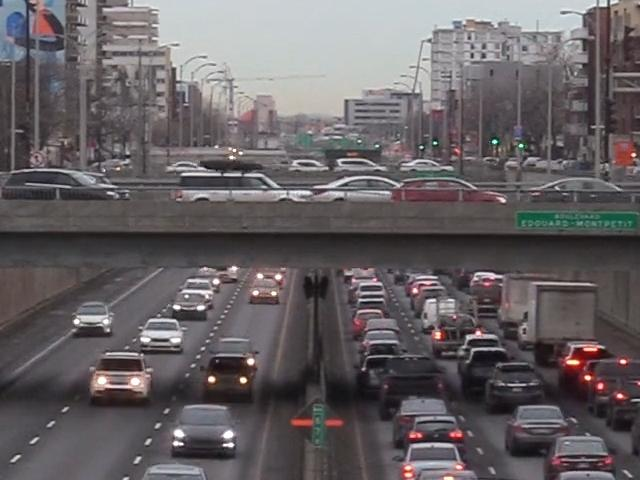car: (373, 355, 449, 420), (169, 169, 301, 204), (0, 166, 124, 202), (171, 405, 239, 460), (505, 407, 576, 456), (90, 355, 155, 405), (459, 344, 519, 398), (483, 362, 547, 412), (401, 412, 470, 458), (398, 177, 508, 205), (396, 439, 470, 480), (525, 178, 634, 204), (592, 366, 640, 423), (549, 434, 618, 472), (202, 357, 258, 398), (311, 172, 398, 198), (356, 351, 402, 400), (458, 329, 508, 365), (138, 318, 187, 354), (70, 301, 116, 336), (357, 317, 403, 352), (427, 322, 468, 359), (171, 285, 216, 318), (352, 285, 389, 320), (420, 296, 458, 330), (468, 270, 506, 303), (401, 164, 462, 183), (406, 273, 442, 301), (182, 275, 220, 300), (331, 156, 382, 173), (248, 281, 281, 304), (192, 264, 228, 285), (346, 266, 380, 288), (400, 159, 452, 173), (167, 162, 211, 176), (286, 159, 328, 173), (266, 267, 288, 289), (221, 264, 244, 284), (109, 160, 132, 173)
truck: (511, 279, 597, 365), (496, 273, 551, 344)
